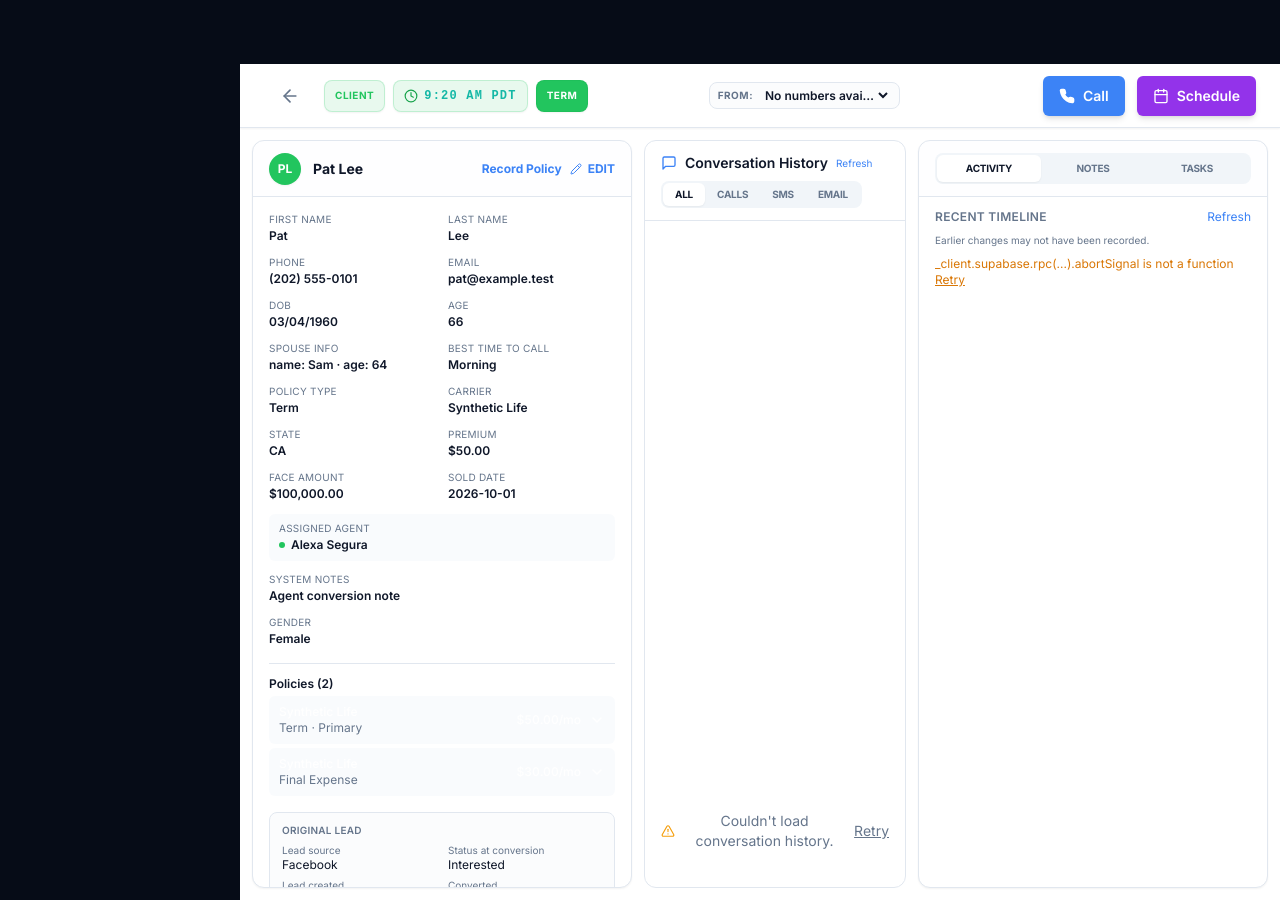
it: converted client — preserved lead information in the existing profile › edit mode offers the person fields; structured spouse info stays read-only; history is never editable
This screenshot has width=1280, height=900.
Click the button "EDIT" at (592,168), box [570,160,615,176]
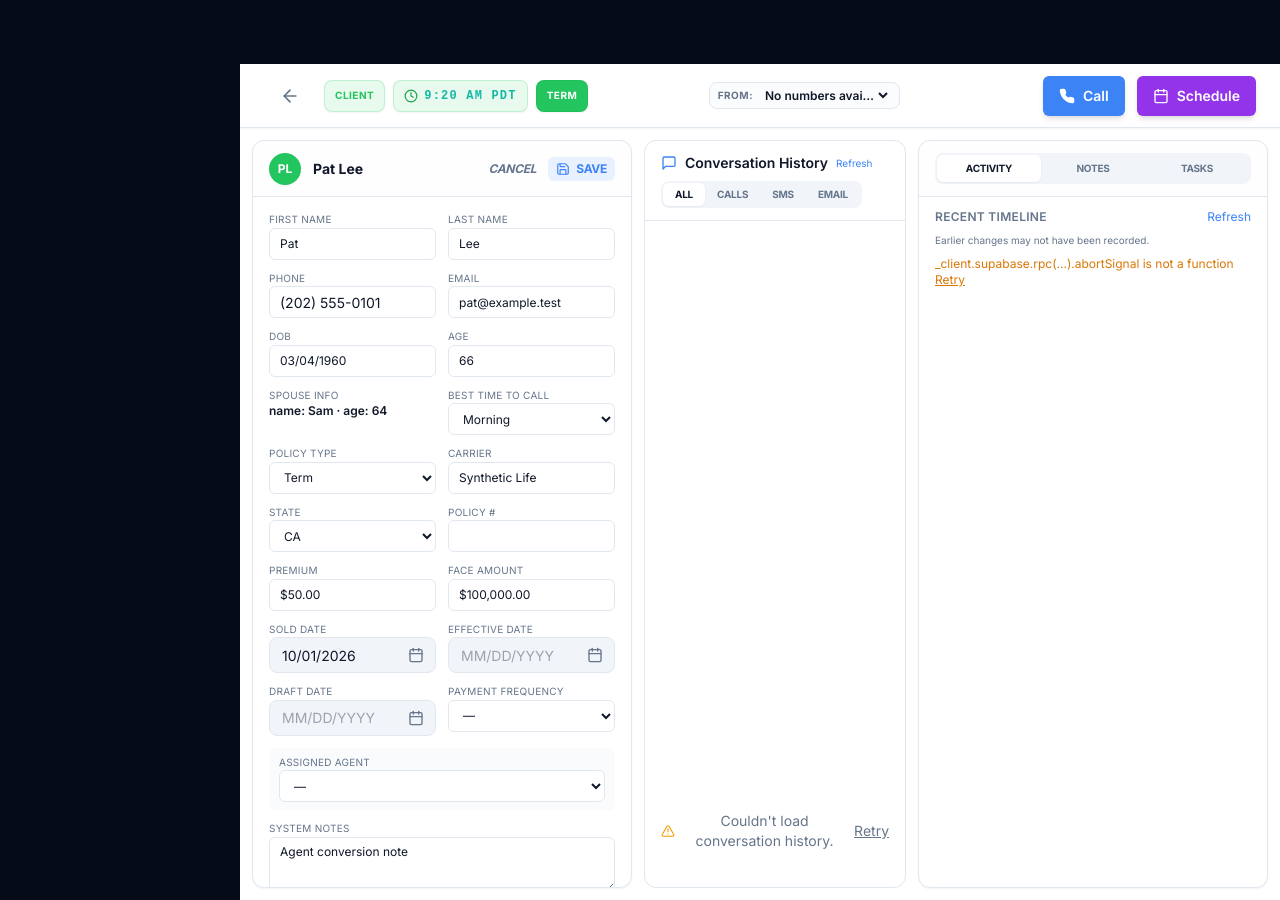
Now the field named "DOB" holds "03/04/1960", box [269,344,436,376]
Now the number field named "Age" holds "66", box [448,344,615,376]
Now the dropdown named "Best Time to Call" shows "Morning", box [448,403,615,435]
Replace the text in the field named "First Name" with "Patricia" at (352,244), box [269,228,436,260]
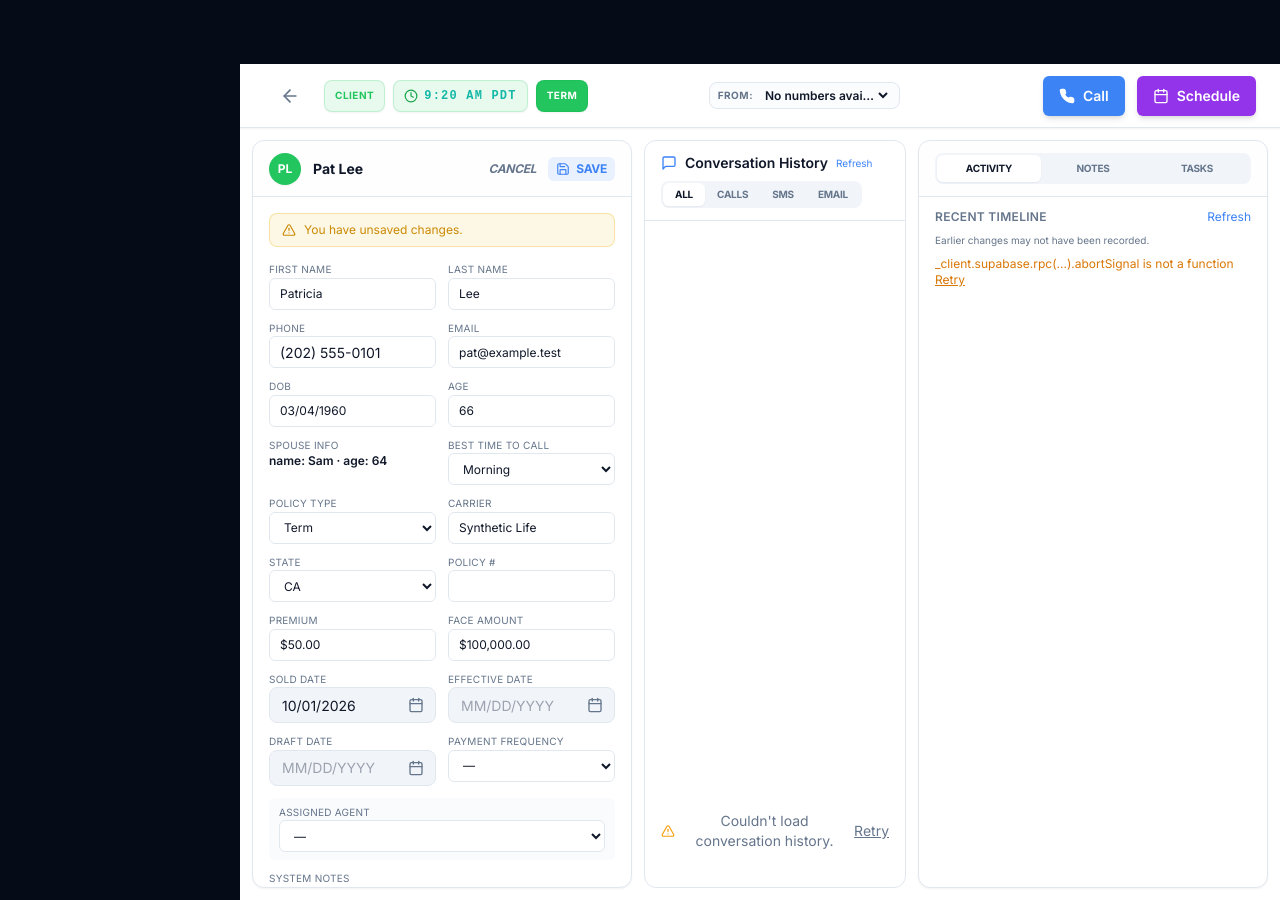
Click the button "SAVE" at (582,168), box [548,156,615,180]
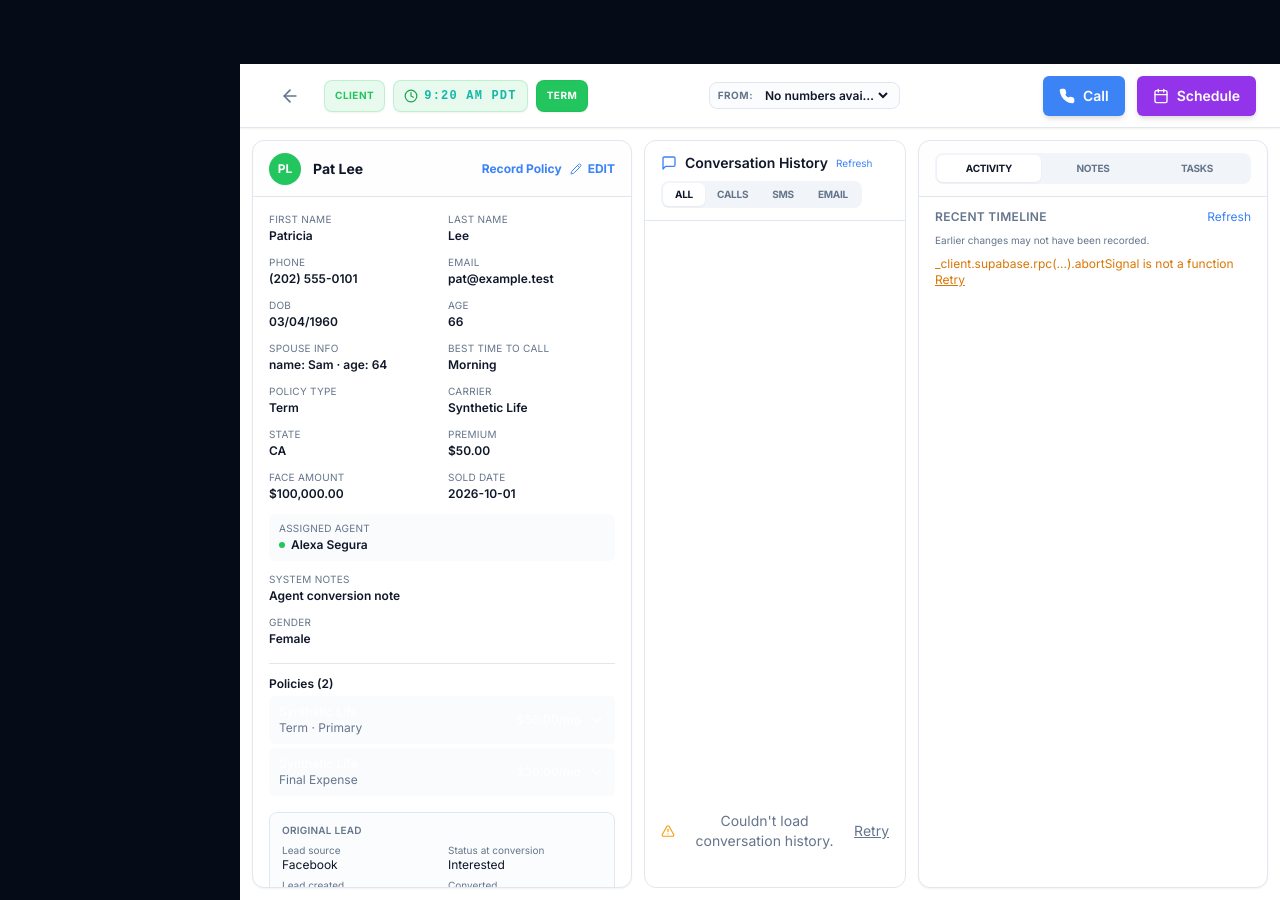
Now the text "Patricia" is shown, box [269,228,313,244]
